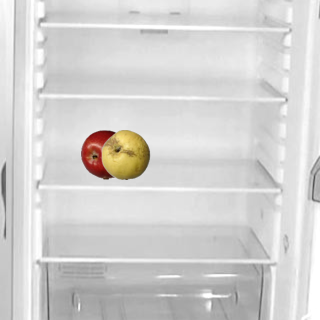Apple Braeburn: (80, 129, 130, 179)
Apple Golden 1: (100, 129, 150, 179)
